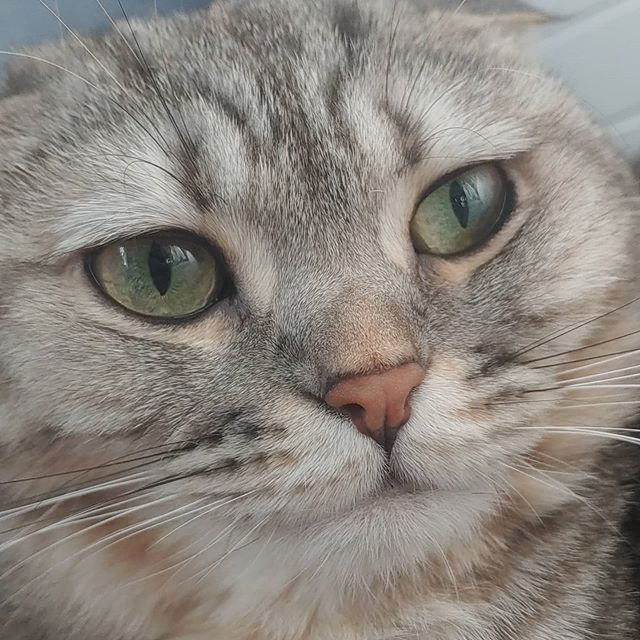cat: (12, 18, 583, 589)
